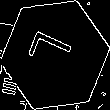L_SE: (28, 31, 82, 79)
